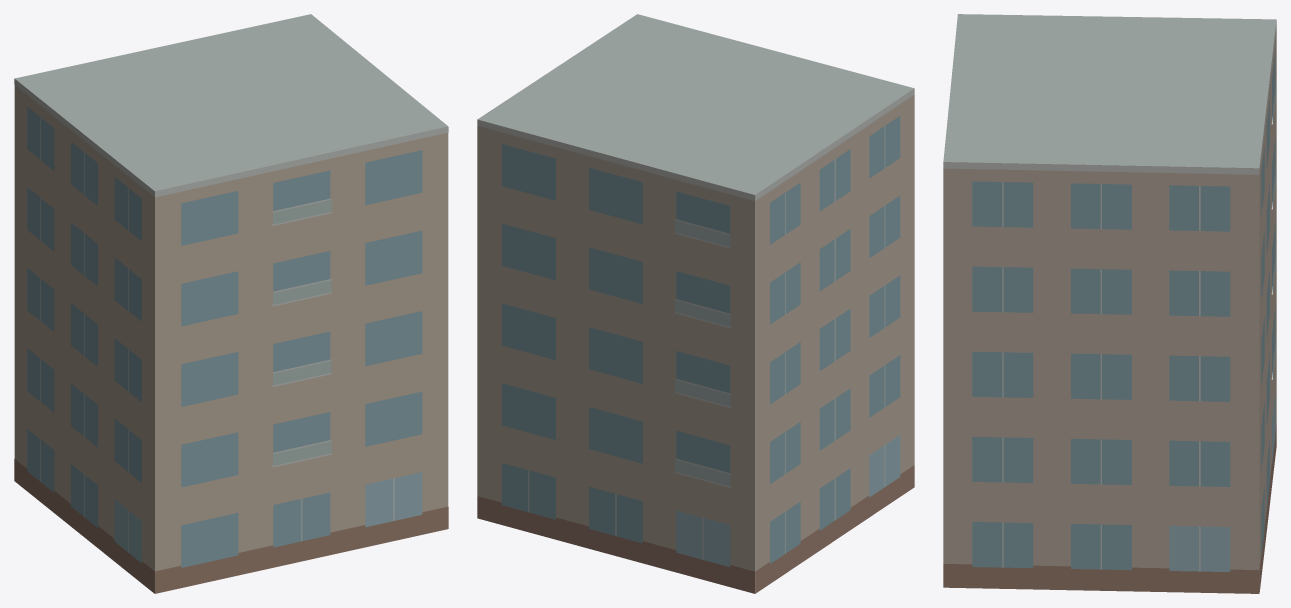
File: survey-upis-33031619.glb
3 views of the same model, side by side, from view 1: azimuth 30°, elevation 25°; view 2: azimuth 150°, elevation 25°; view 3: azimuth 270°, elevation 25° (orthographic). The views are drawn at different scales.
Visible parts, largest first — view 1: survey-upis-33031619.tmp; view 2: survey-upis-33031619.tmp; view 3: survey-upis-33031619.tmp.
Boxes of the visible parts, left/top/right/bottom form: survey-upis-33031619.tmp: left=14, top=14, right=448, bottom=593; survey-upis-33031619.tmp: left=477, top=14, right=914, bottom=593; survey-upis-33031619.tmp: left=943, top=14, right=1276, bottom=593.
Bounding box in the file's own units: 12.37 × 15.9 × 11.29.
